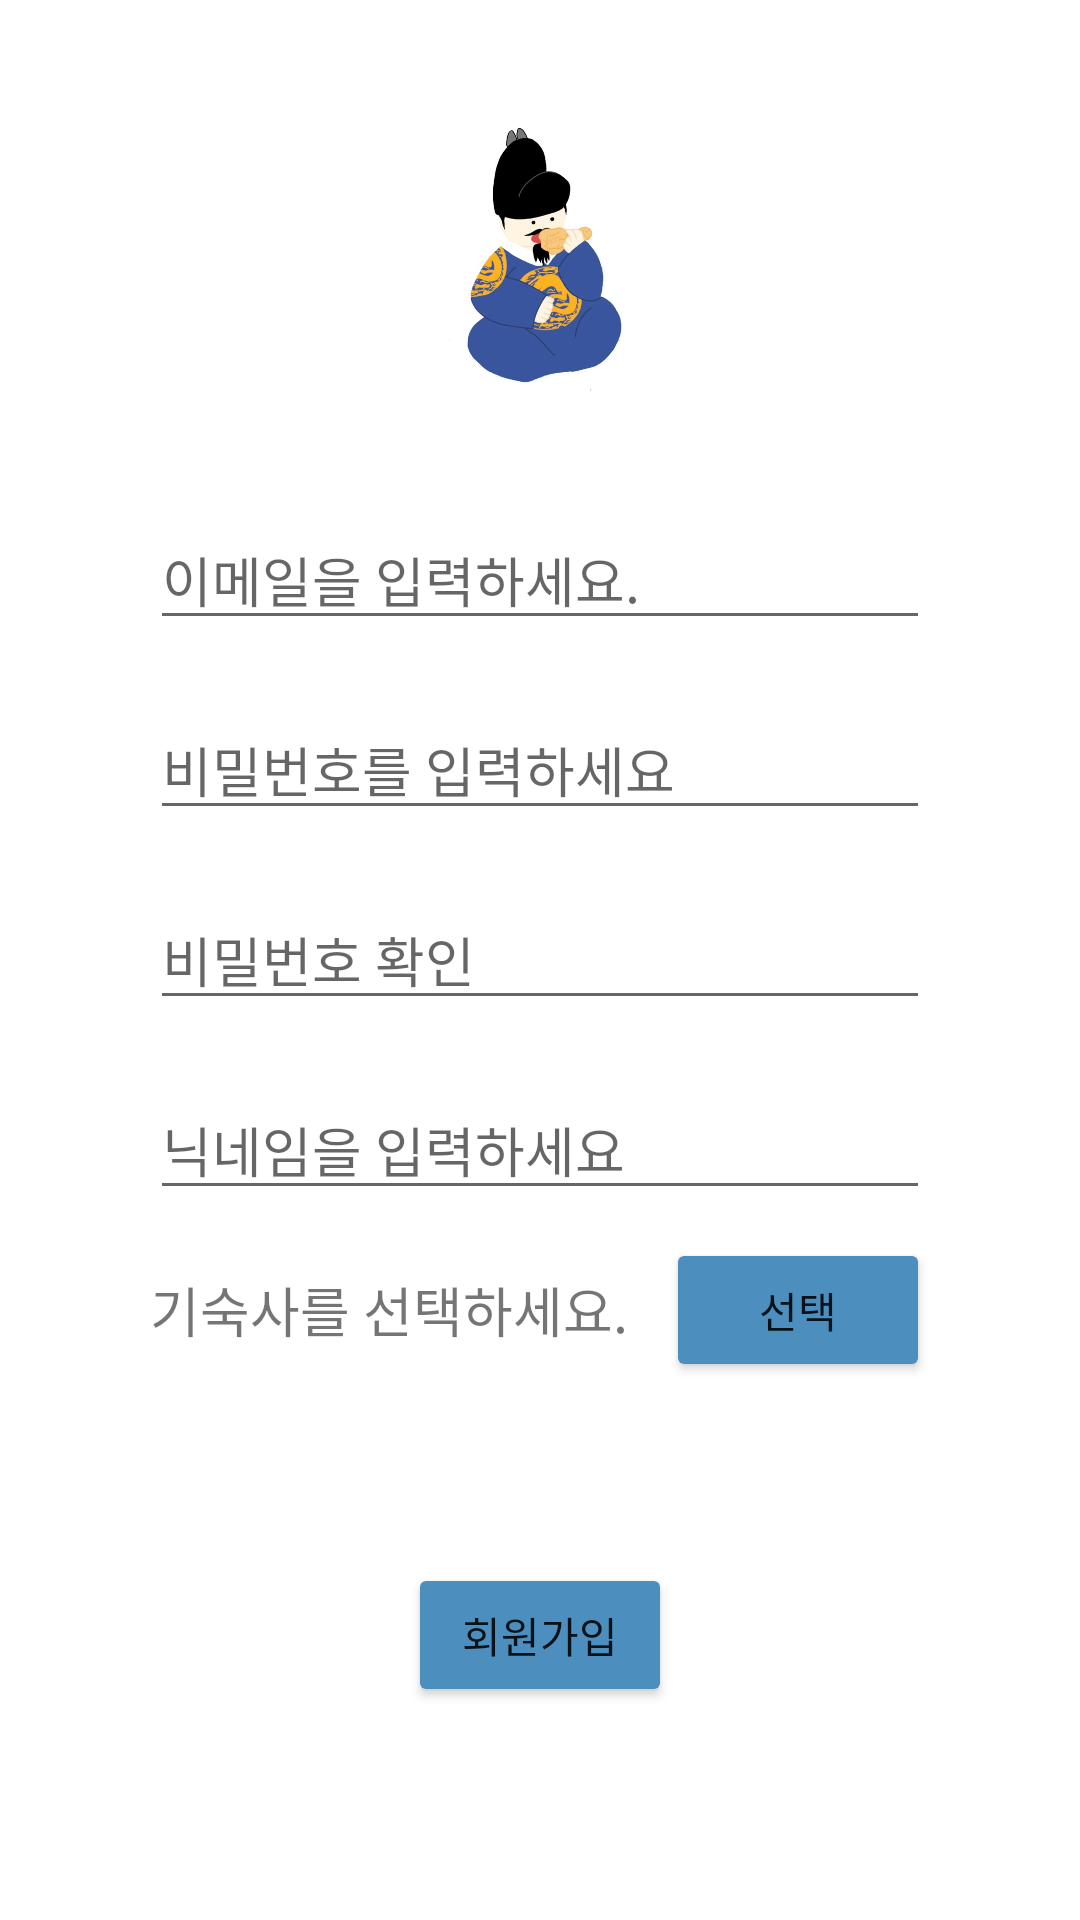

Screen size 1080x1920. Icon name, then its box in pixels as region(x1, y1, x2, y2):
character: region(467, 128, 622, 391)
